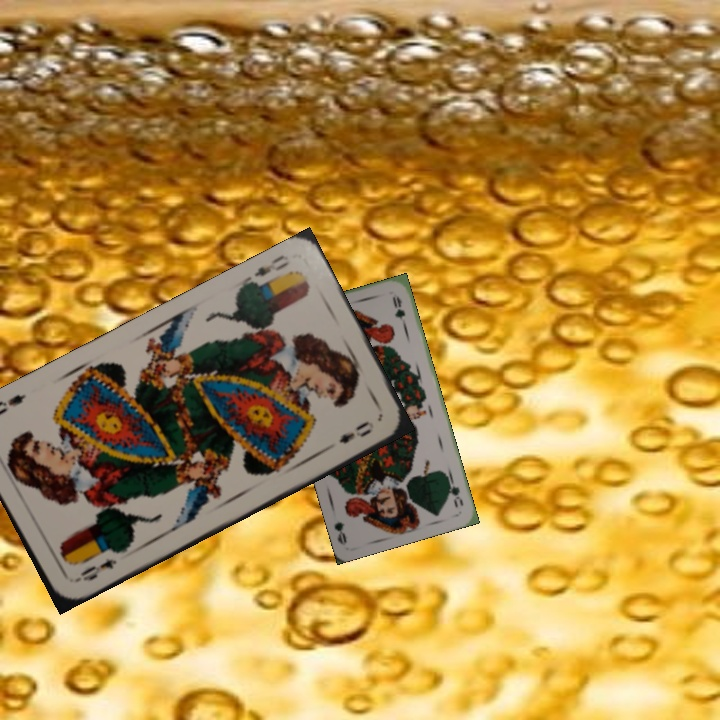EO: (241, 250, 295, 290), (70, 554, 120, 585)
GO: (444, 472, 466, 510)
